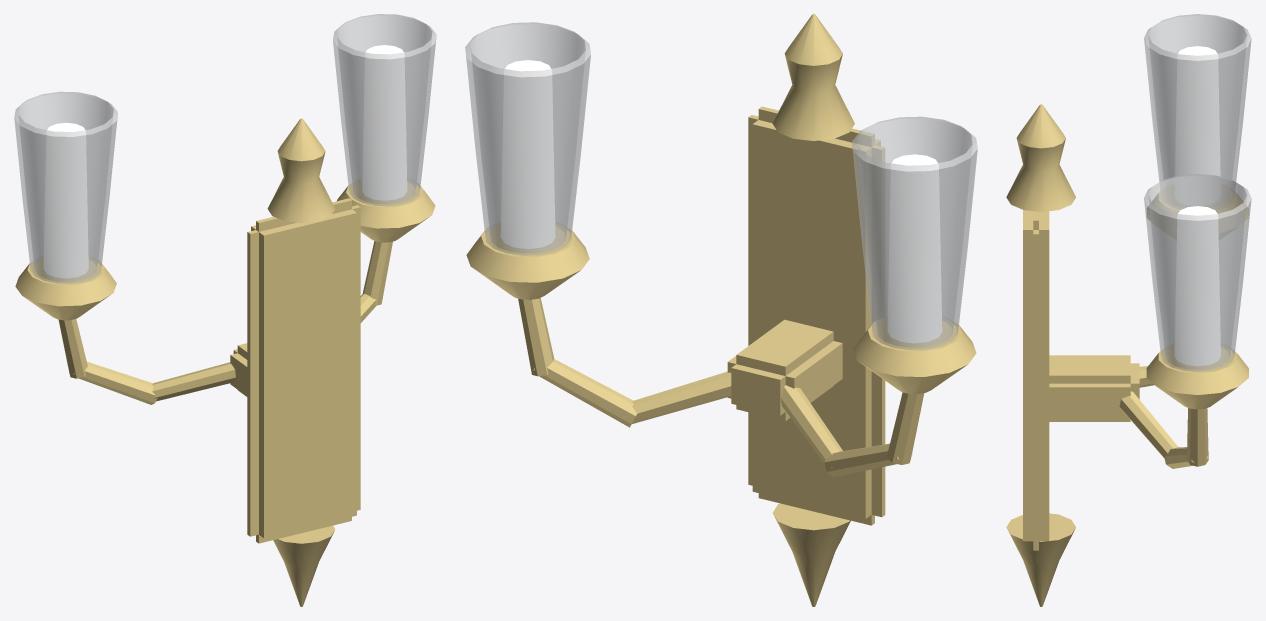
Rendered from atelier_wall_sconce.glb.
3 renders of one model, left to right at view 1: azimuth 30°, elevation 25°; view 2: azimuth 150°, elevation 25°; view 3: azimuth 270°, elevation 25°, orthographic. The views are drawn at different scales.
Visible parts, largest first — view 1: Sconce_BrassBody, Sconce_CrystalShade, Sconce_CandleGlow; view 2: Sconce_BrassBody, Sconce_CrystalShade, Sconce_CandleGlow; view 3: Sconce_CrystalShade, Sconce_BrassBody, Sconce_CandleGlow.
Boxes of the visible parts, x1,y1,x2,y2 form: Sconce_BrassBody: (15, 118, 435, 606); Sconce_CrystalShade: (14, 14, 436, 283); Sconce_CandleGlow: (44, 45, 406, 278); Sconce_BrassBody: (466, 14, 976, 606); Sconce_CrystalShade: (465, 22, 977, 349); Sconce_CandleGlow: (501, 60, 941, 342); Sconce_CrystalShade: (1144, 14, 1251, 371); Sconce_BrassBody: (1006, 104, 1248, 606); Sconce_CandleGlow: (1175, 46, 1220, 365).
Size of the model in its own units: 0.668 by 0.76 by 0.337.
